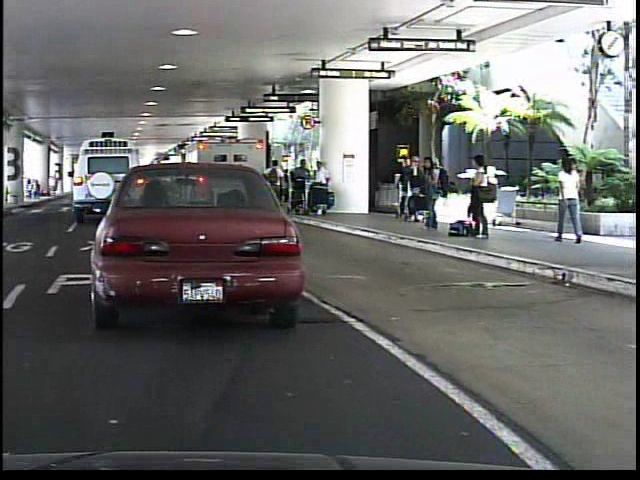person: (549, 153, 587, 245), (462, 150, 491, 241)
